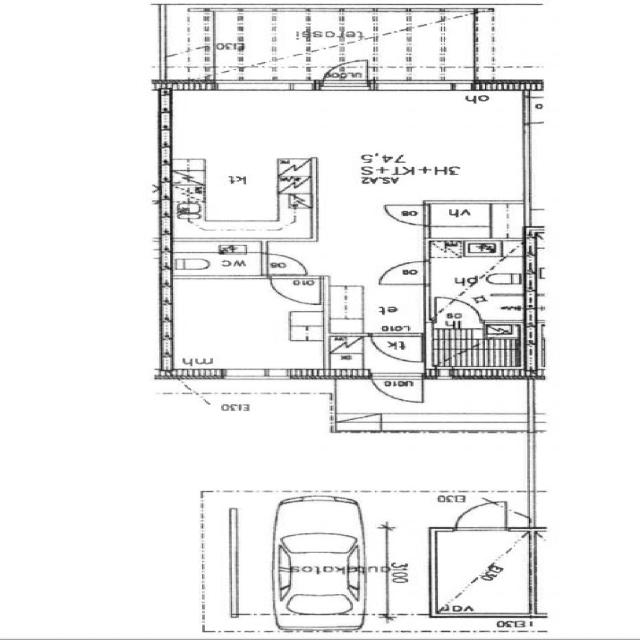door: (450, 499, 510, 533), (369, 369, 427, 404), (267, 274, 327, 306), (374, 258, 434, 286), (369, 334, 425, 364), (379, 201, 434, 228), (322, 59, 372, 88), (258, 252, 312, 276)
window: (212, 78, 316, 95), (370, 79, 471, 93), (219, 367, 296, 382)
zone: (307, 84, 524, 203), (167, 85, 311, 241), (162, 275, 327, 376), (424, 242, 534, 324), (432, 528, 532, 614), (427, 322, 525, 374), (423, 202, 527, 242), (167, 243, 268, 280), (372, 78, 468, 94)
